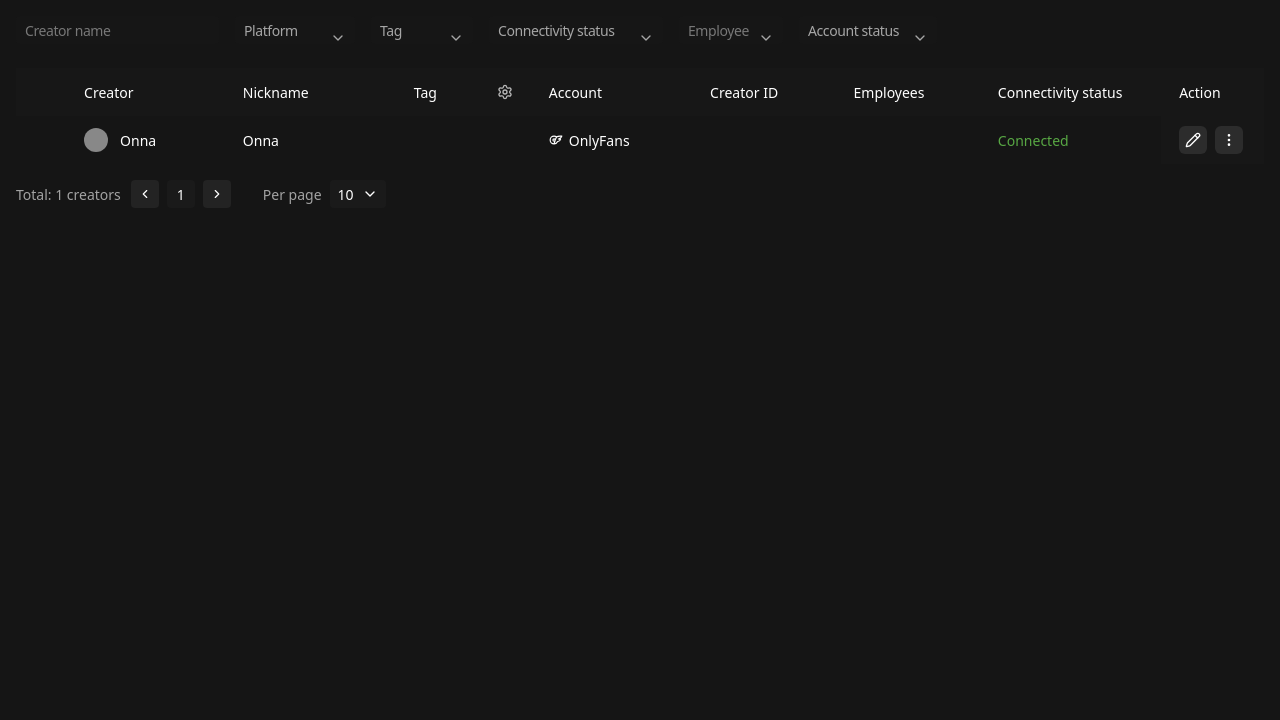
AccountsTable modals — Escape › Escape on the Delete modal's step 2 closes it and deletes nothing
Click the button named "More actions for Onna" at (1229, 140), box [1215, 126, 1243, 154]
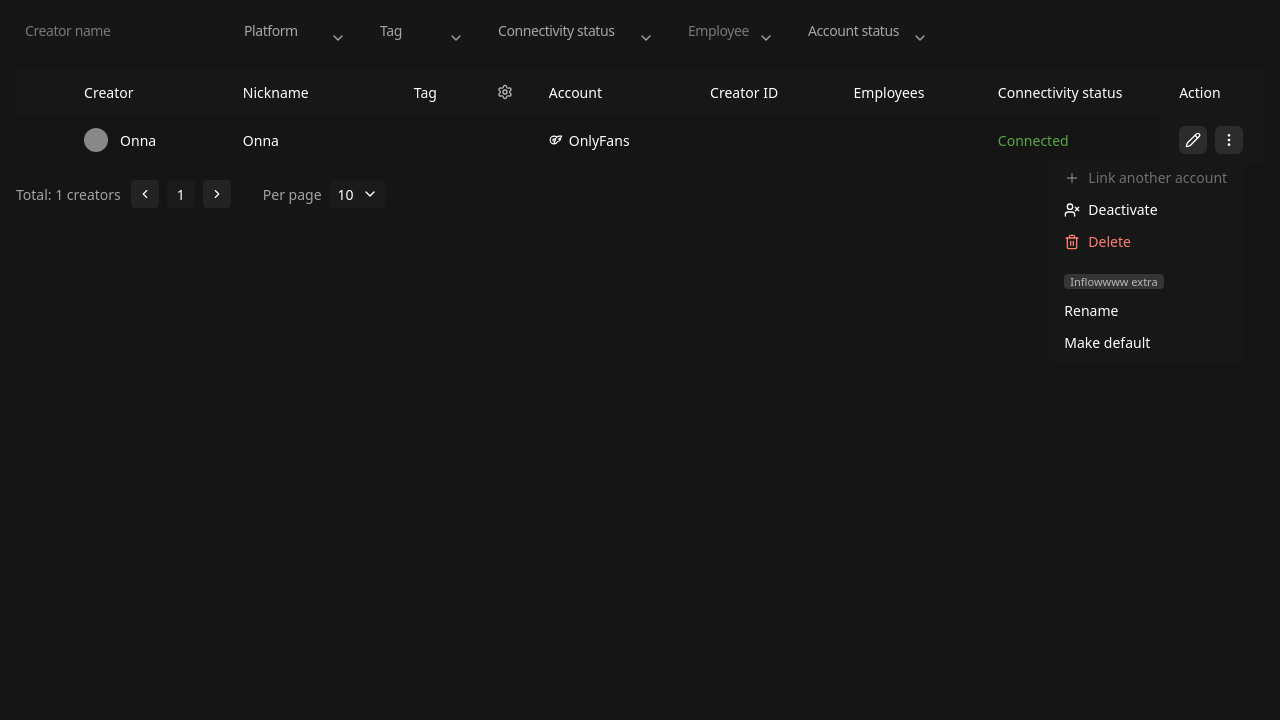
Click the menu item "Delete" at (1146, 242), box [1052, 226, 1239, 258]
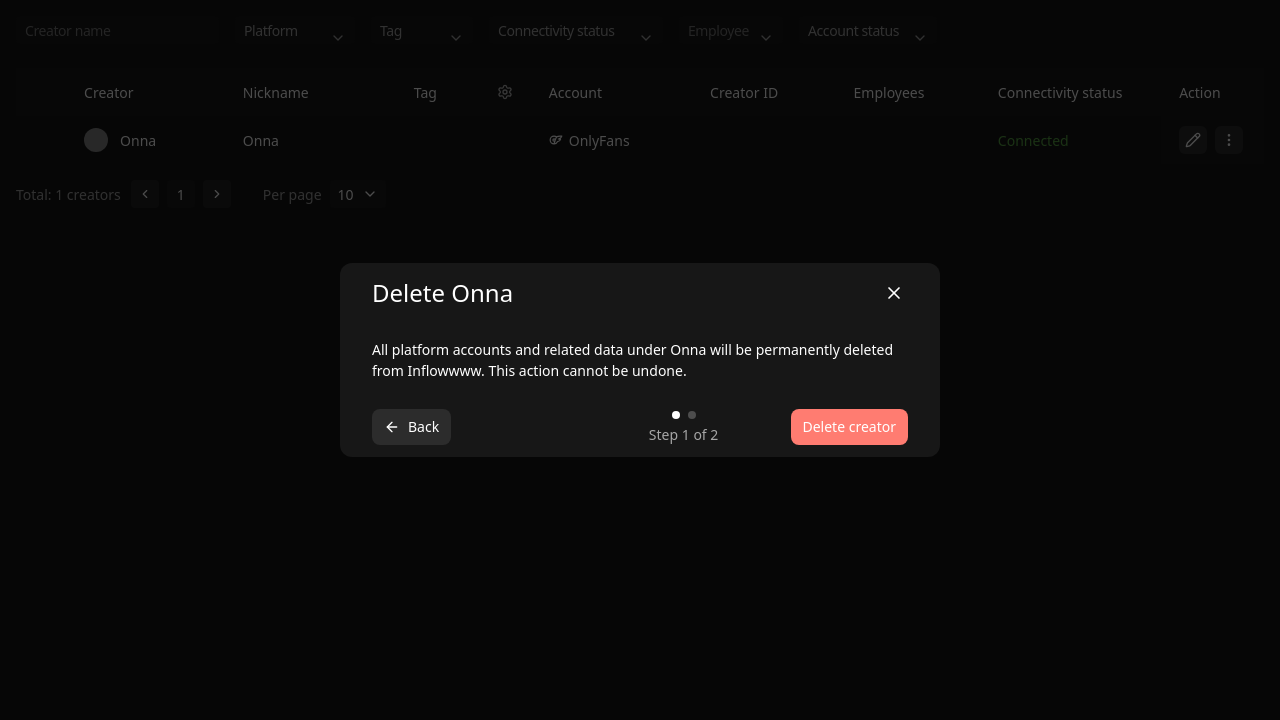
Click the button "Delete creator" at (849, 427), box [790, 409, 908, 445]
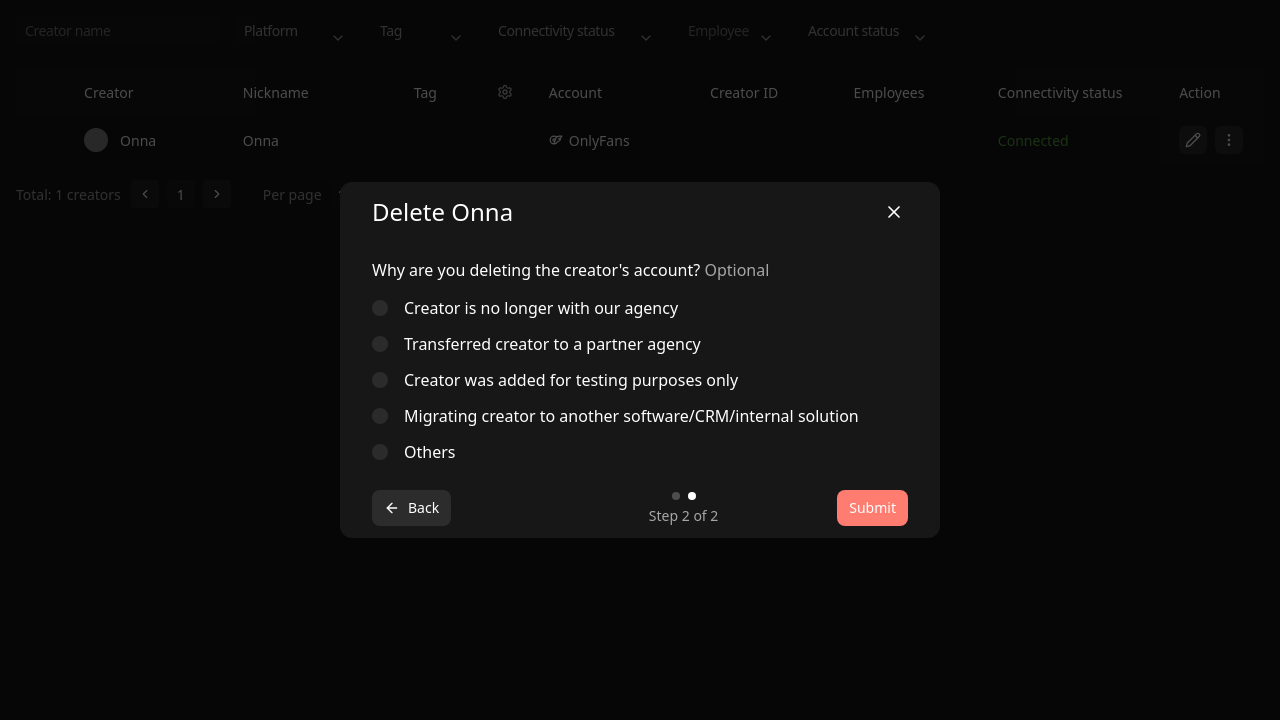
Result: the button "Submit" is shown at [837, 490, 908, 526]
Press Escape
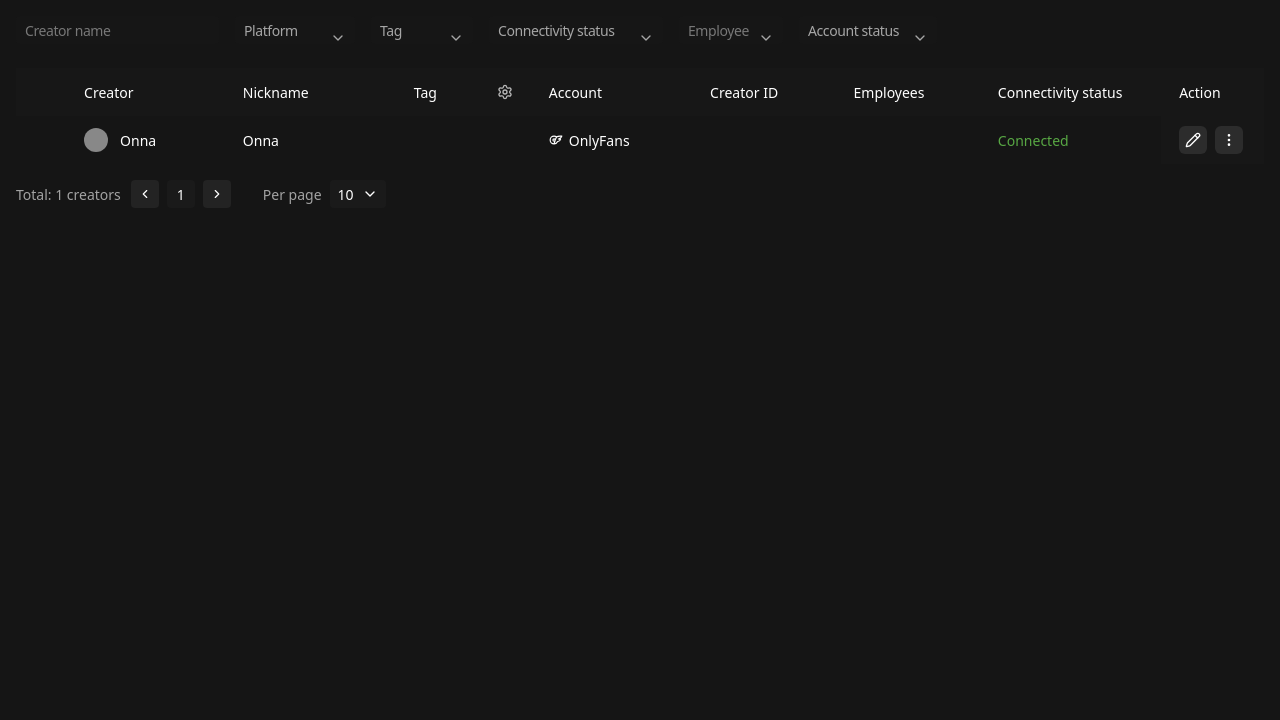
Result: the dialog is gone
